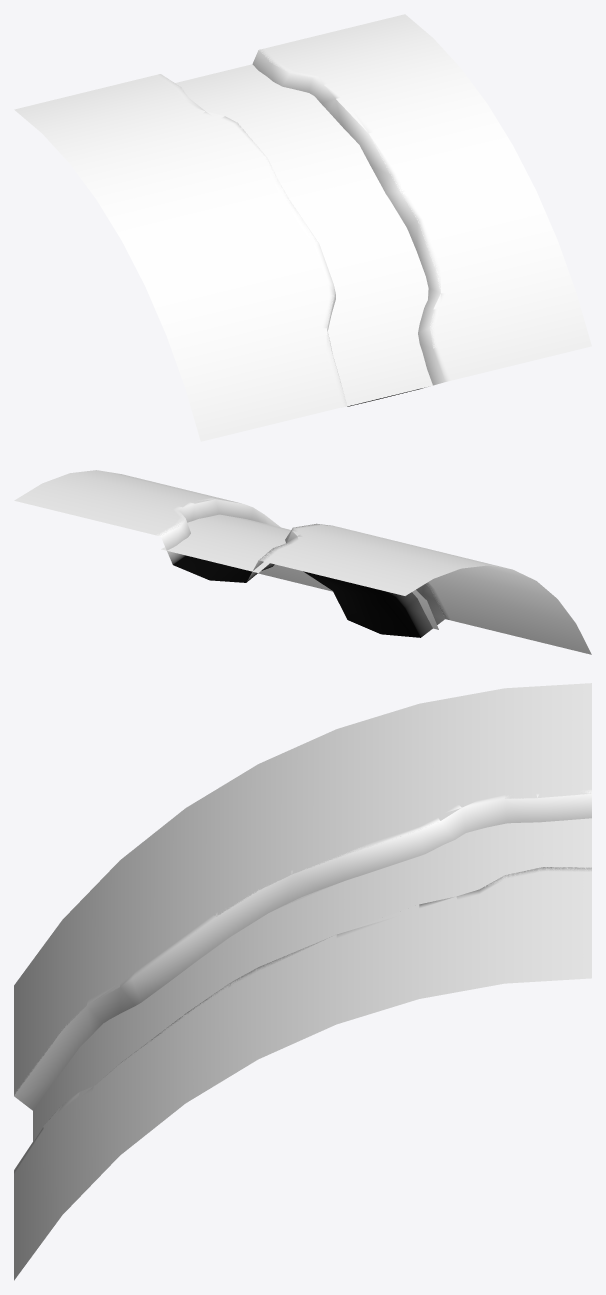
The model's file is grd_Rs_1.dae.
3 views of the same model, one above another, from view 1: azimuth 30°, elevation 25°; view 2: azimuth 150°, elevation 25°; view 3: azimuth 270°, elevation 25° (orthographic). The views are drawn at different scales.
Parts seen in each view (by area): view 1: grass_1_0, river_2_0, cliff_river_0_0, river_edge_3_0; view 2: grass_1_0, cliff_river_0_0, river_2_0; view 3: grass_1_0, river_2_0, cliff_river_0_0, river_edge_3_0.
Boxes of the visible parts, x1,y1,x2,y2 form: grass_1_0: (14, 14, 591, 441); river_2_0: (175, 64, 438, 407); cliff_river_0_0: (155, 48, 451, 407); river_edge_3_0: (184, 64, 432, 407); grass_1_0: (14, 470, 591, 654); cliff_river_0_0: (156, 498, 450, 637); river_2_0: (161, 514, 438, 629); grass_1_0: (14, 683, 591, 1280); river_2_0: (33, 818, 591, 1140); cliff_river_0_0: (14, 789, 591, 1174); river_edge_3_0: (33, 818, 591, 1114).
Size of the model in its own units: 512 by 264 by 423.
4 materials, 1 textured.
